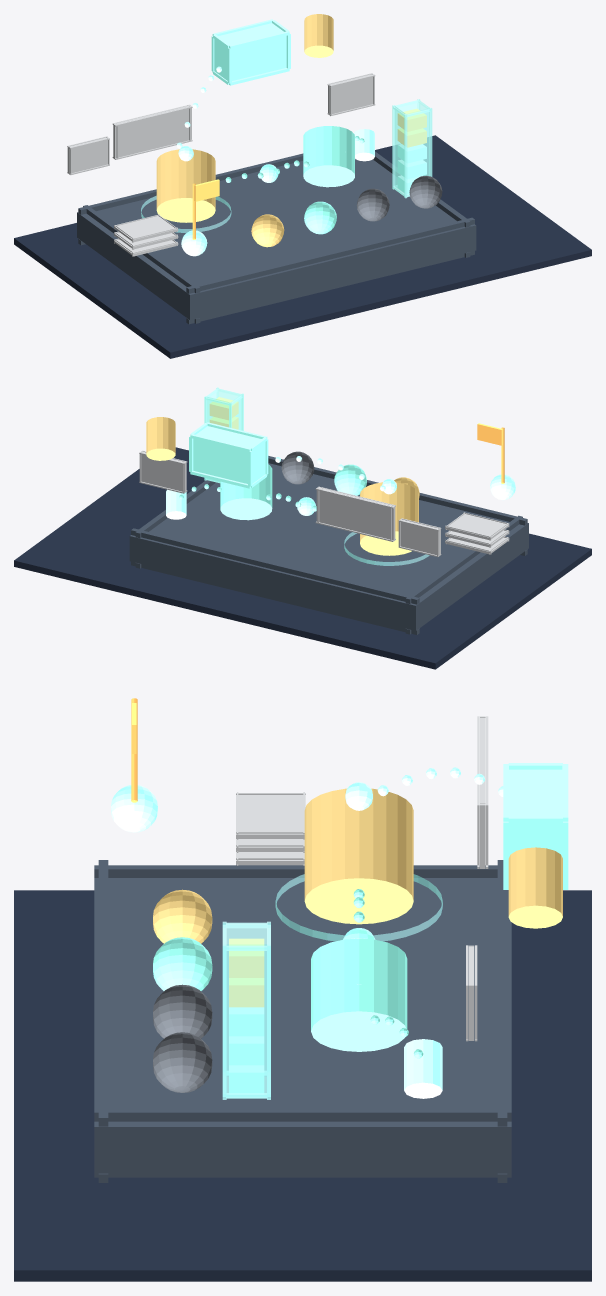
Rendered from node-troubleshoot.glb.
3 views of the same model, one above another, from view 1: azimuth 30°, elevation 25°; view 2: azimuth 150°, elevation 25°; view 3: azimuth 270°, elevation 25° (orthographic). The views are drawn at different scales.
Visible parts, largest first — view 1: node-chassis, node-floor, control-plane-api, kubelet, disk-gauge, kubelet-unit, containerd, cni-conf, kubelet-config, node-lifecycle-controller, journal-page-2, pod-burstable (+9 smaller); view 2: node-chassis, node-floor, control-plane-api, kubelet-unit, kubelet, containerd, cni-conf, disk-gauge, kubelet-config, node-lifecycle-controller, journal-page-2, pod-besteffort-0 (+8 smaller); view 3: node-floor, node-chassis, kubelet, containerd, disk-gauge, control-plane-api, node-lifecycle-controller, journal-page-2, pod-besteffort-1, pod-burstable, pod-guaranteed, pod-besteffort-0 (+12 smaller).
Part boxes in pixels (bbox=[...]): node-chassis: bbox=[77, 151, 476, 324]; node-floor: bbox=[14, 135, 591, 358]; control-plane-api: bbox=[211, 19, 290, 85]; kubelet: bbox=[156, 149, 215, 222]; disk-gauge: bbox=[392, 99, 432, 198]; kubelet-unit: bbox=[112, 104, 192, 159]; containerd: bbox=[303, 126, 354, 187]; cni-conf: bbox=[327, 73, 375, 116]; kubelet-config: bbox=[67, 136, 109, 175]; node-lifecycle-controller: bbox=[304, 14, 333, 57]; journal-page-2: bbox=[114, 214, 178, 242]; pod-burstable: bbox=[304, 201, 336, 234]; node-chassis: bbox=[129, 456, 528, 634]; node-floor: bbox=[14, 447, 591, 669]; control-plane-api: bbox=[189, 422, 268, 488]; kubelet-unit: bbox=[315, 486, 395, 541]; kubelet: bbox=[360, 482, 418, 555]; containerd: bbox=[220, 464, 272, 520]; cni-conf: bbox=[139, 450, 187, 493]; disk-gauge: bbox=[204, 387, 243, 483]; kubelet-config: bbox=[398, 518, 441, 556]; node-lifecycle-controller: bbox=[146, 417, 175, 460]; journal-page-2: bbox=[445, 512, 509, 540]; pod-besteffort-0: bbox=[281, 451, 314, 484]; node-floor: bbox=[14, 890, 591, 1281]; node-chassis: bbox=[94, 860, 511, 1182]; kubelet: bbox=[304, 788, 413, 924]; containerd: bbox=[311, 938, 407, 1051]; disk-gauge: bbox=[222, 921, 270, 1099]; control-plane-api: bbox=[503, 763, 568, 889]; node-lifecycle-controller: bbox=[508, 847, 562, 928]; journal-page-2: bbox=[236, 792, 305, 839]; pod-besteffort-1: bbox=[153, 1032, 212, 1092]; pod-burstable: bbox=[153, 937, 212, 990]; pod-guaranteed: bbox=[153, 889, 212, 943]; pod-besteffort-0: bbox=[153, 984, 212, 1038].
Size of what is drawn, in the model's own units: 5.6 by 2.14 by 3.6.
